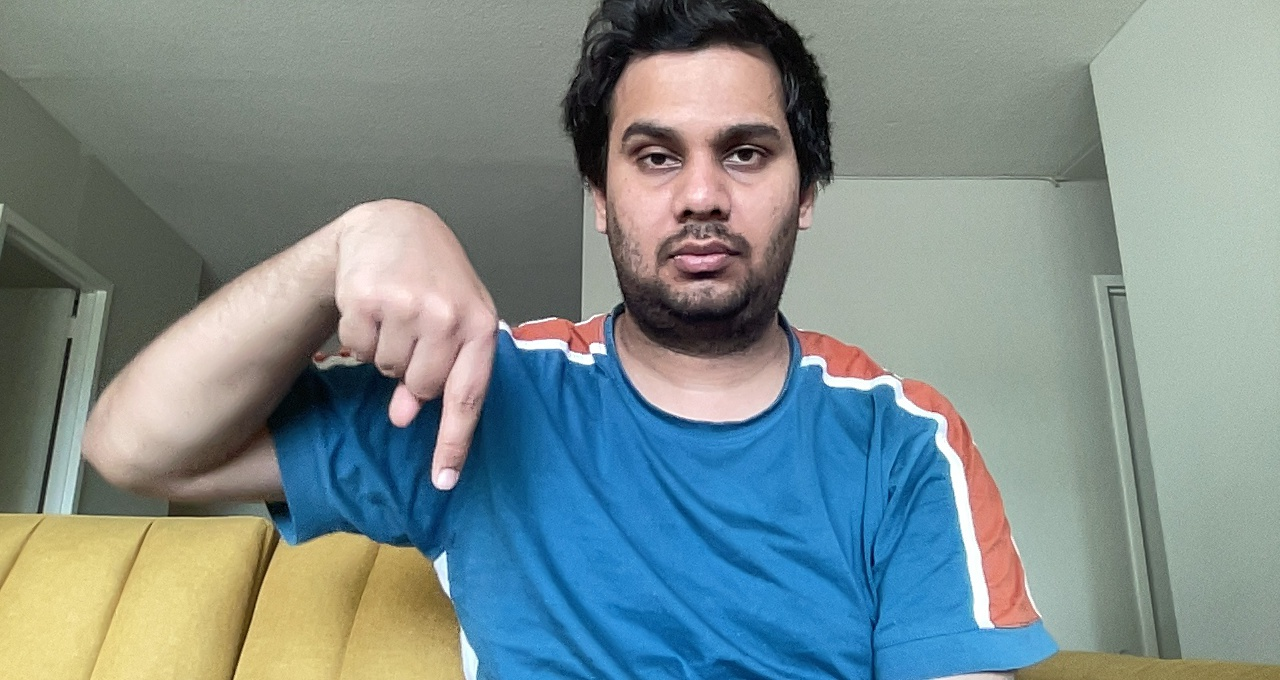fingerdown: (327, 186, 506, 498)
